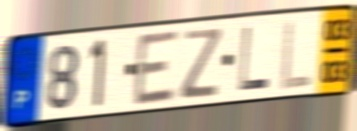1: (87, 38, 107, 110)
8: (47, 43, 80, 112)
E: (131, 27, 181, 109)
L: (278, 17, 314, 93), (237, 25, 271, 94)
Z: (177, 25, 224, 101)
